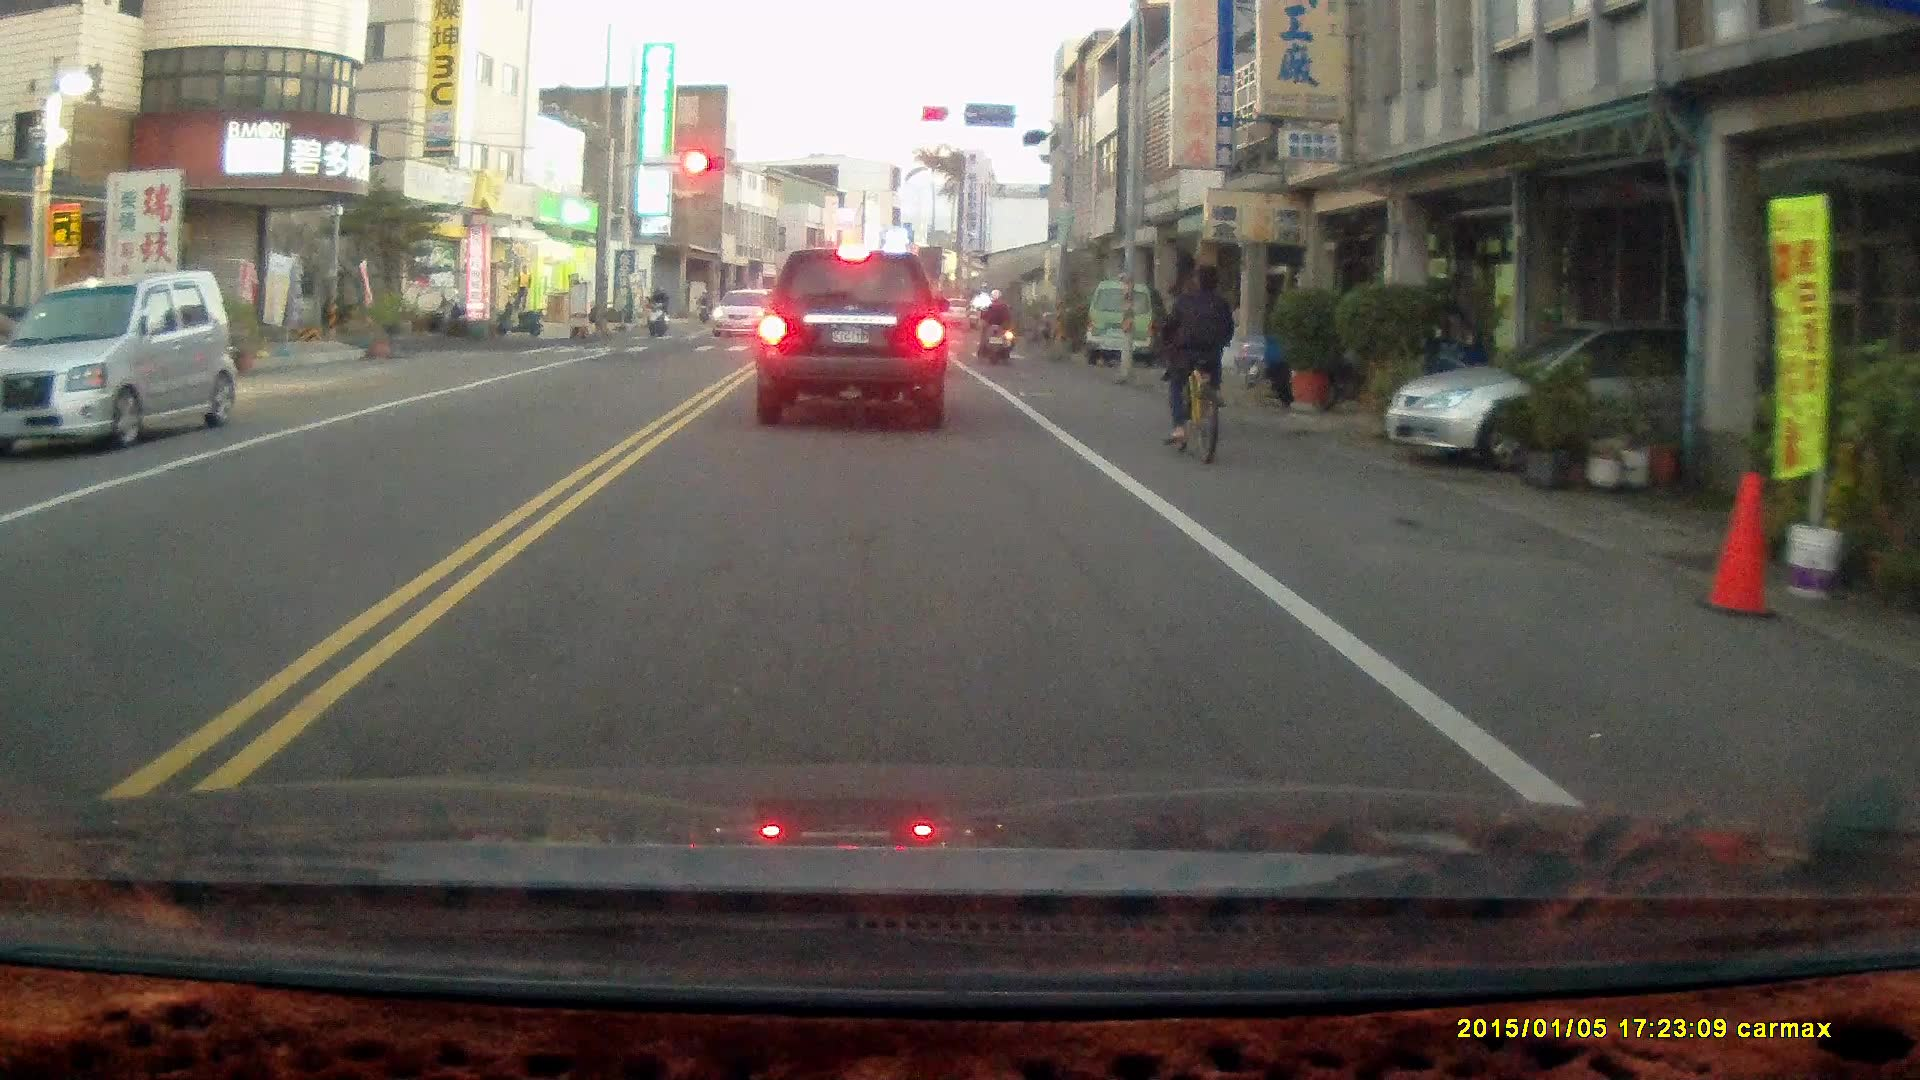pedestrian: (512, 260, 532, 309)
rider: (1166, 263, 1237, 463), (974, 284, 1016, 362), (643, 285, 671, 339)
vehicle: (1384, 322, 1808, 476), (8, 265, 242, 456), (751, 245, 952, 432), (1087, 283, 1170, 364)
